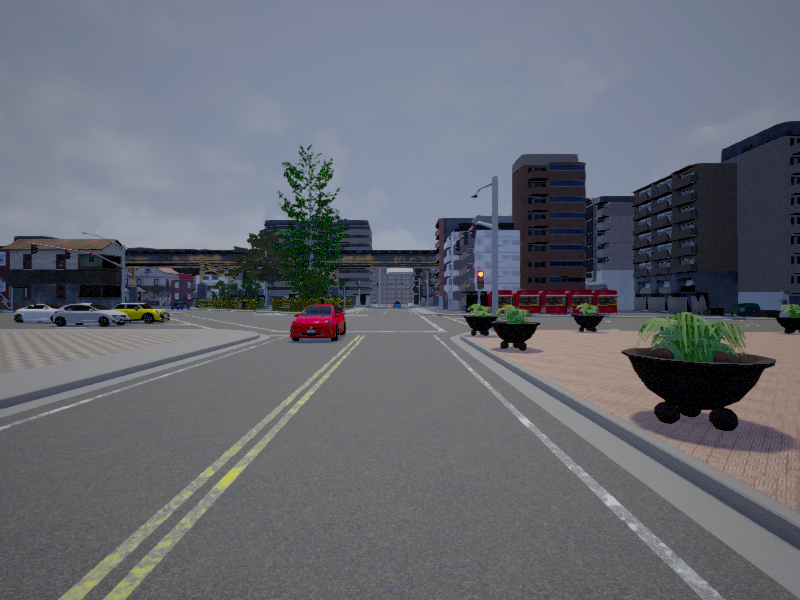Benign: (293, 304, 346, 343), (53, 301, 125, 327), (113, 301, 169, 323), (13, 303, 60, 323)
